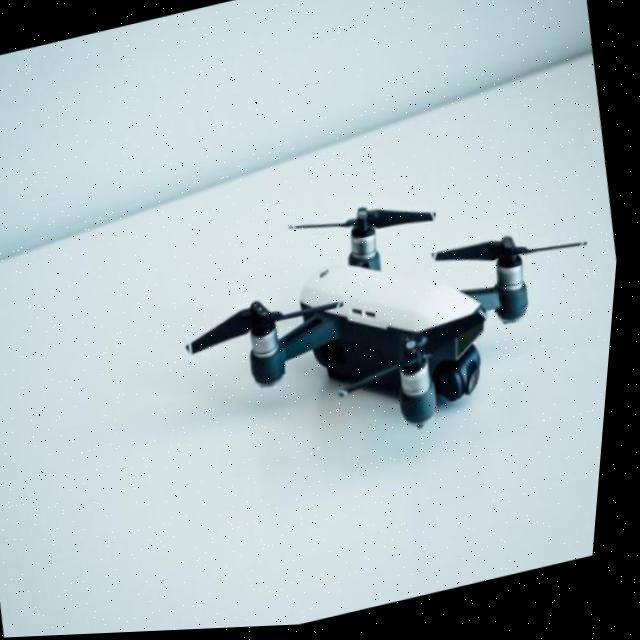drones: (96, 119, 631, 555)
